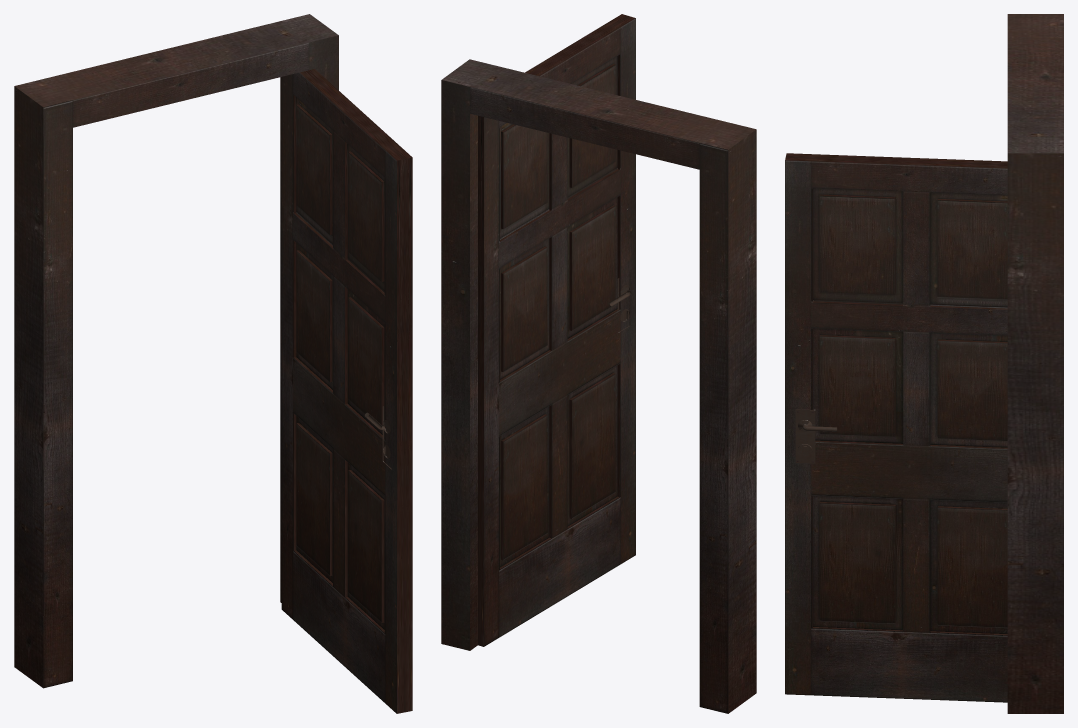
The model's file is OldOpenedWoodenDoor_01.fbx.
3 renders of one model, left to right at view 1: azimuth 30°, elevation 25°; view 2: azimuth 150°, elevation 25°; view 3: azimuth 270°, elevation 25°, orthographic. The views are drawn at different scales.
Visible parts, largest first — view 1: DoorFrame.001; view 2: DoorFrame.001; view 3: DoorFrame.001.
Part boxes in pixels (x1,y1,x2,y2): DoorFrame.001: (14, 14, 412, 713); DoorFrame.001: (441, 14, 756, 713); DoorFrame.001: (785, 14, 1063, 713).
Bounding box in the file's own units: 122 × 229 × 103.
